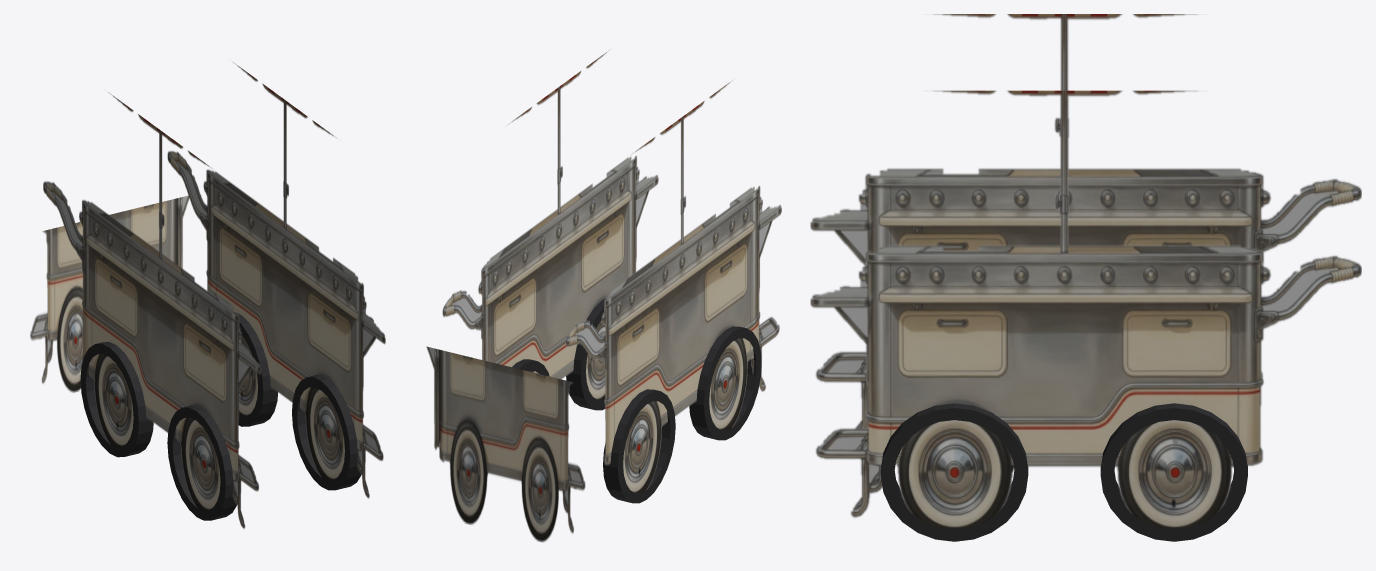
Rendered from food_cart.glb.
The picture shows the model from 3 angles, left to right: view 1: azimuth 30°, elevation 25°; view 2: azimuth 150°, elevation 25°; view 3: azimuth 270°, elevation 25°; orthographic projection. The views are drawn at different scales.
Visible parts, largest first — view 1: food_cart, wheel_FL, wheel_BL, wheel_BR, wheel_FR; view 2: food_cart, wheel_BL, wheel_FL, wheel_BR; view 3: food_cart, wheel_BR, wheel_FR.
Boxes of the visible parts, x1=… form: food_cart: x1=30, y1=61, x2=385, y2=528; wheel_FL: x1=80, y1=342, x2=153, y2=457; wheel_BL: x1=167, y1=405, x2=236, y2=520; wheel_BR: x1=292, y1=375, x2=361, y2=490; wheel_FR: x1=234, y1=312, x2=277, y2=426; food_cart: x1=426, y1=49, x2=781, y2=542; wheel_BL: x1=689, y1=326, x2=761, y2=440; wheel_FL: x1=603, y1=389, x2=675, y2=503; wheel_BR: x1=566, y1=298, x2=605, y2=410; food_cart: x1=810, y1=14, x2=1361, y2=529; wheel_BR: x1=880, y1=403, x2=1028, y2=541; wheel_FR: x1=1100, y1=403, x2=1247, y2=541.
Size of the model in its own units: 0.8989 by 1.61 by 1.8.
2 materials, 1 textured.
